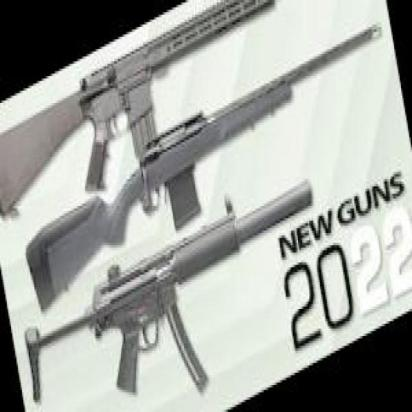Gun: (29, 182, 312, 401), (0, 0, 273, 196)
